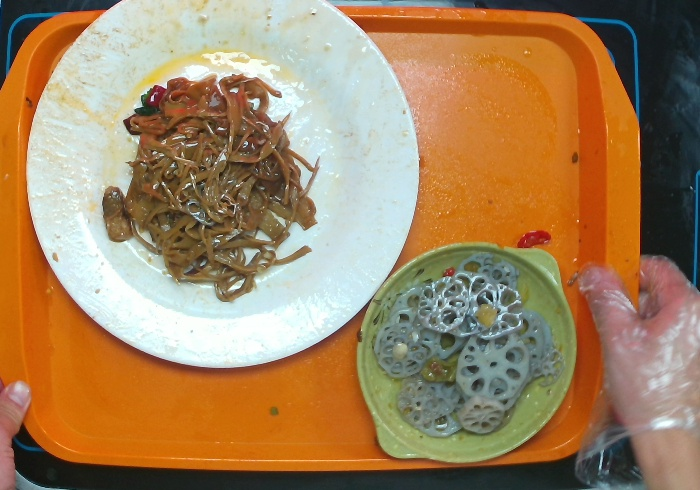NLDX-Da_Yuan_Pan: (24, 1, 421, 375)
NLDX-Lv_Hua_Shuang_Er_Die: (349, 235, 587, 466)
